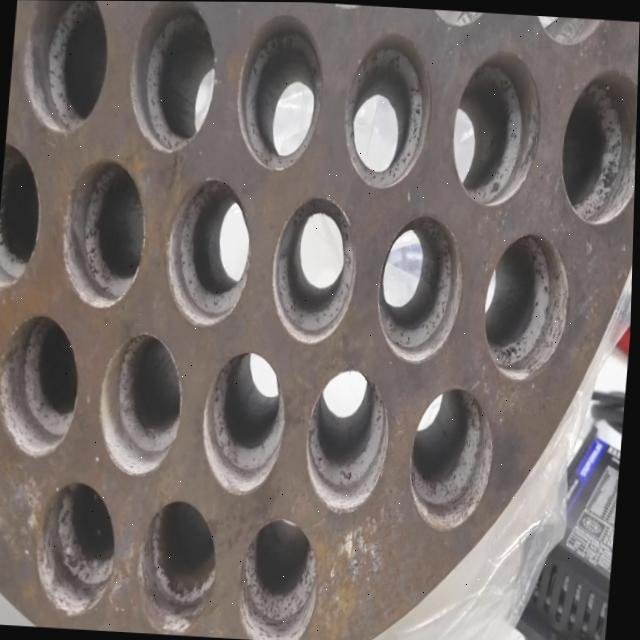Hole: (338, 29, 436, 190), (447, 48, 545, 207), (232, 10, 327, 172), (124, 1, 221, 154), (161, 174, 256, 329), (374, 208, 469, 363), (57, 155, 151, 310), (268, 191, 362, 345), (481, 227, 574, 382), (198, 346, 292, 497), (407, 382, 500, 532), (303, 365, 395, 515), (96, 329, 188, 478), (556, 64, 639, 225), (15, 0, 112, 135), (136, 494, 224, 637), (0, 311, 85, 459), (35, 477, 123, 617), (238, 512, 325, 640), (0, 140, 47, 294)
